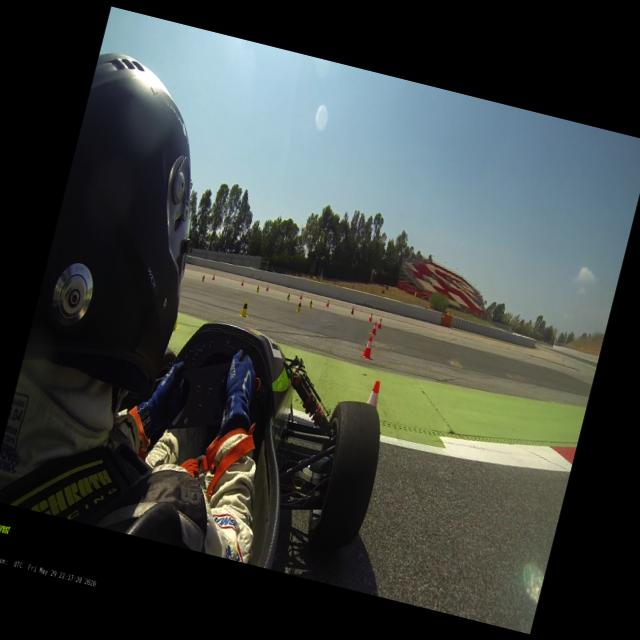orange_cone: (367, 379, 382, 406), (361, 336, 375, 360), (370, 322, 378, 334), (377, 317, 383, 328), (368, 312, 373, 322), (350, 306, 354, 314), (298, 292, 302, 300), (240, 278, 244, 286), (326, 300, 330, 307), (264, 284, 268, 291), (212, 274, 216, 280)
yellow_cone: (238, 298, 252, 318), (295, 299, 303, 313), (307, 298, 313, 309), (254, 284, 260, 293), (286, 292, 292, 300), (200, 274, 204, 282)
